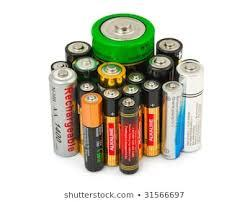battery: (41, 69, 82, 169), (91, 14, 158, 68), (179, 54, 208, 155), (138, 77, 169, 157), (114, 97, 146, 173), (76, 92, 104, 177), (161, 79, 185, 163)
